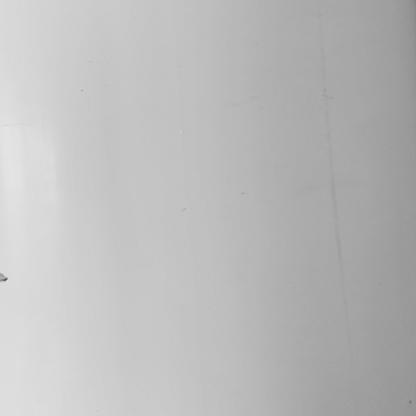kongdong: (1, 266, 16, 294)
